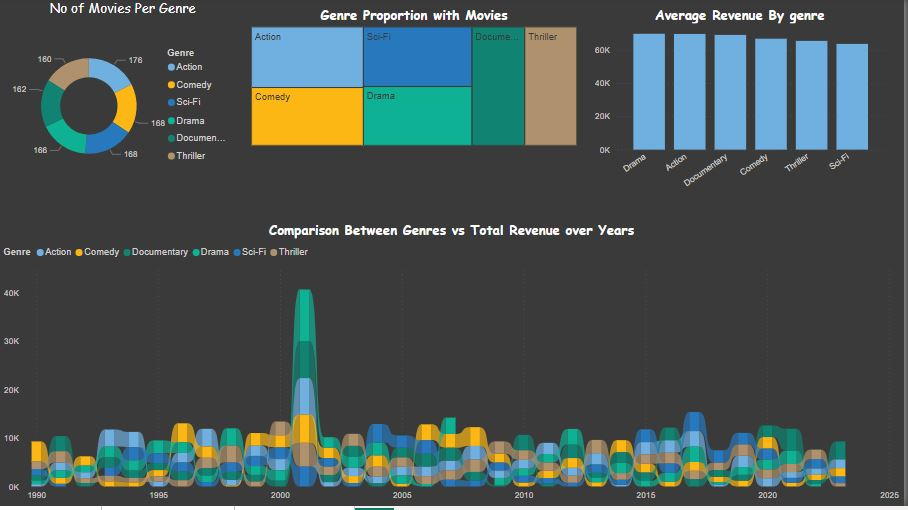

Layout of this report page (visuals, bound fields, positions):
{"tool":"powerbi","page":{"name":"Genre Analysis","canvas":[1280,720],"ordinal":2},"visuals":[{"type":"donutChart","title":"No of Movies Per Genre","fields":{"Category":["MoviesMergedTable.Genre"],"Y":["CountNonNull(MoviesMergedTable.Title)"]},"box":[10.3,0,420.2,280.7],"z":0},{"type":"clusteredColumnChart","title":"Average Revenue By genre","fields":{"Category":["MoviesMergedTable.Genre"],"Y":["MoviesMergedTable.Total Revenue"]},"box":[937.5,10.3,321.8,279.2],"z":1000},{"type":"treemap","title":"Genre Proportion with Movies","fields":{"Group":["MoviesMergedTable.Genre"],"Values":["CountNonNull(MoviesMergedTable.Title)"]},"box":[430.5,4.4,470.2,270.4],"z":2000},{"type":"ribbonChart","title":"Comparison Between Genres vs Total Revenue over Years","fields":{"Category":["MoviesMergedTable.Release Year"],"Y":["MoviesMergedTable.Total Revenue"],"Series":["MoviesMergedTable.Genre"]},"box":[0,314,1280,406],"z":3000}]}

Visuals, with their boxes in screenshot pixels (x1, y1, x2, y2), scaled from the page's 1280x720 canvas onto the 908x510 screenshot:
"No of Movies Per Genre" donutChart: bbox(7, 0, 305, 199)
"Average Revenue By genre" clusteredColumnChart: bbox(665, 7, 893, 205)
"Genre Proportion with Movies" treemap: bbox(305, 3, 639, 195)
"Comparison Between Genres vs Total Revenue over Years" ribbonChart: bbox(0, 222, 907, 509)
